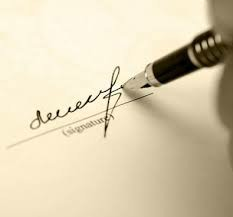pen: (122, 22, 233, 97)
